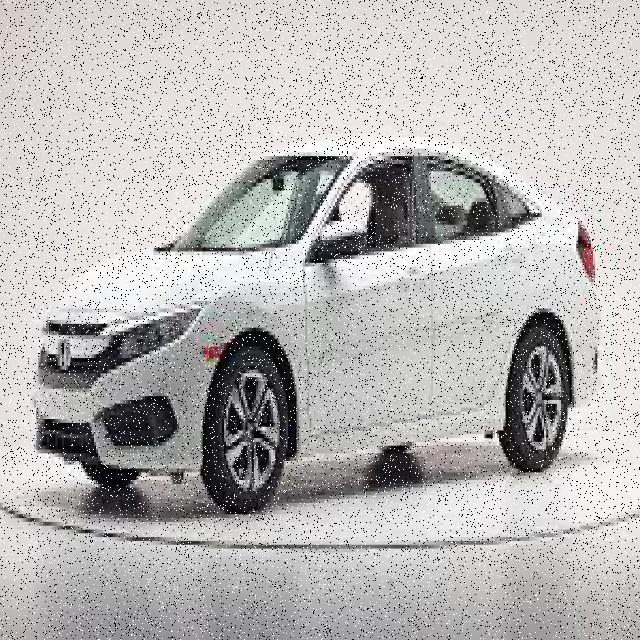fender-dent: (192, 271, 310, 389)
